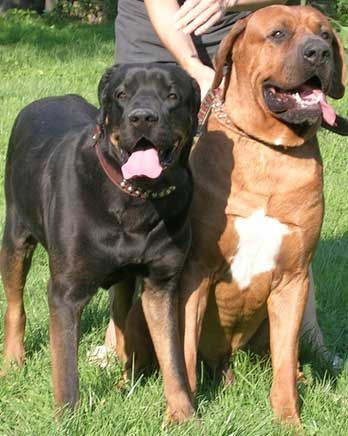person: (90, 0, 348, 376)
rottweiler: (0, 60, 201, 428)
tosa_inu: (123, 3, 348, 436)
